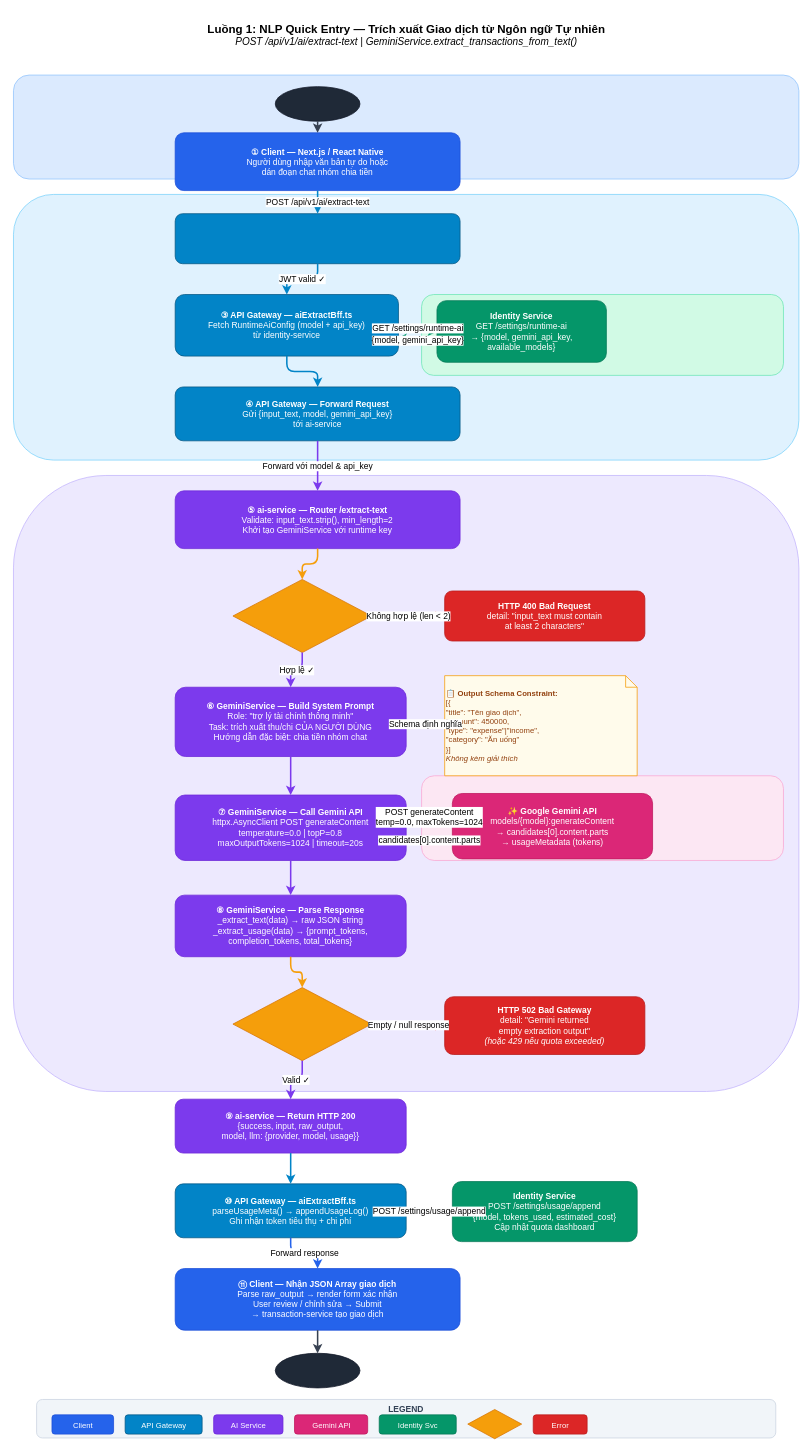
Image size: 812x1452. Some labels were removed from this diagram. Each missing label, with the box of its shape:
AI SERVICE (FastAPI / Python): (13, 475, 799, 1091)
API GATEWAY LAYER: (13, 194, 799, 460)
CLIENT LAYER: (13, 74, 799, 179)
Decision: (467, 1409, 522, 1439)
END: (275, 1353, 360, 1388)
GOOGLE GEMINI API (External): (421, 775, 783, 860)
IDENTITY SERVICE (Node.js): (421, 294, 783, 375)
Response hợp lệ?: (232, 987, 372, 1061)
START: (275, 86, 360, 121)
Đầu vào hợp lệ?: (232, 579, 372, 653)
② API Gateway — verifyToken Middleware Xác thực JWT trong Authorization header: (174, 213, 460, 264)
